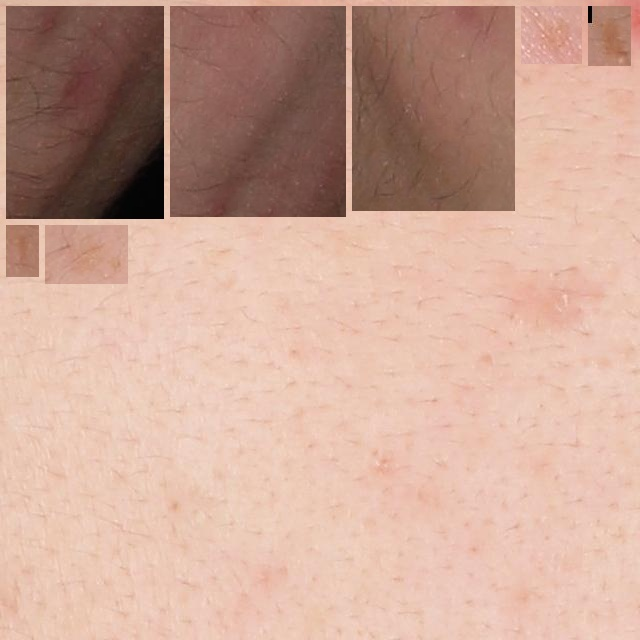hypertrophic_scar: (178, 14, 338, 209), (14, 14, 156, 211), (360, 14, 507, 203)
melasma: (53, 233, 120, 276), (529, 14, 574, 56), (596, 14, 623, 58), (14, 233, 31, 269)
